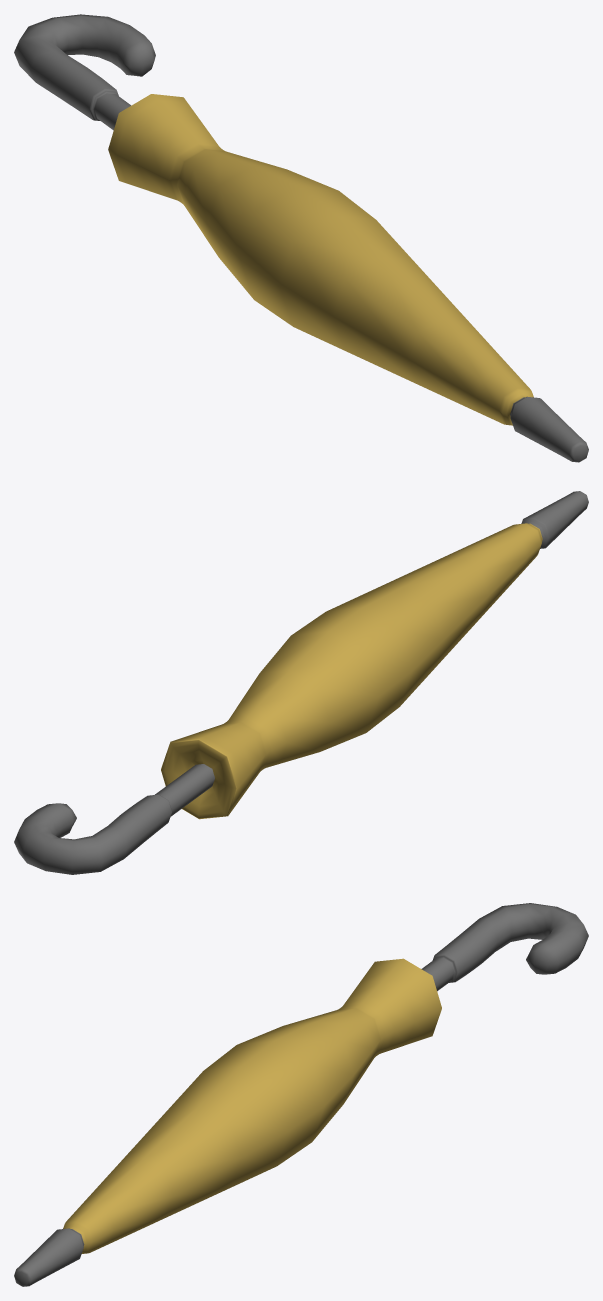
The model's file is Umbrella.fbx.
3 views of the same model, one above another, from view 1: azimuth 30°, elevation 25°; view 2: azimuth 150°, elevation 25°; view 3: azimuth 330°, elevation 25° (orthographic). The views are drawn at different scales.
Parts seen in each view (by area): view 1: Umbrella; view 2: Umbrella; view 3: Umbrella.
Part boxes in pixels (box(x1,y1,x2,y2)): Umbrella: box(14, 14, 588, 462); Umbrella: box(14, 491, 588, 874); Umbrella: box(14, 903, 588, 1286).
Bounding box in the file's own units: 11.27 × 8.58 × 74.67.
